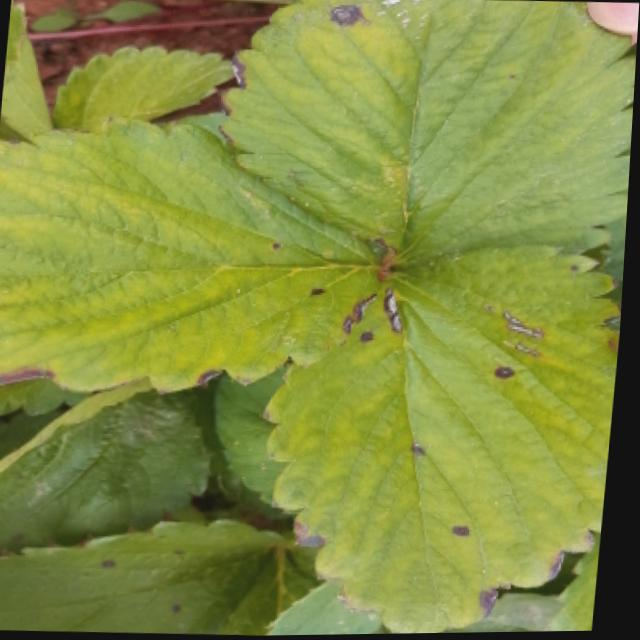Leaf Spot: (266, 244, 627, 635), (218, 0, 637, 271), (0, 113, 395, 396), (0, 516, 290, 635), (214, 547, 385, 636)
